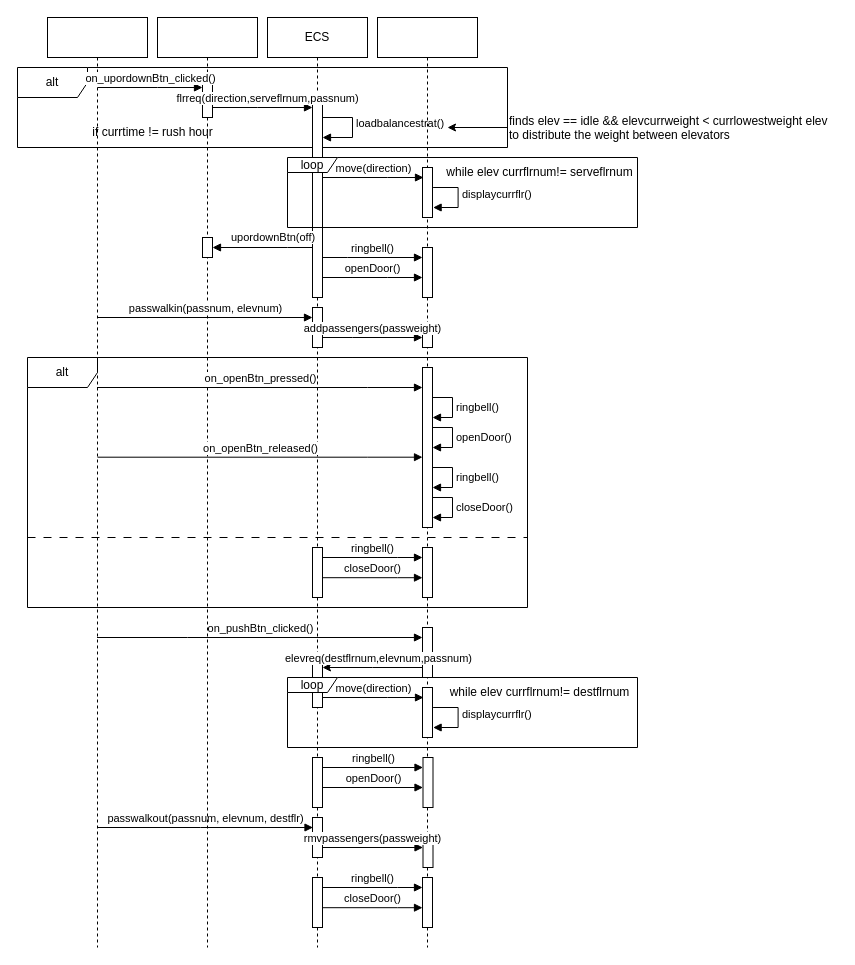
This 855x965 diagram has some shape labels left out. The box of each missing label's shape, as (x1, y1, x2, y2) in pixels:
Elevator: (376, 16, 478, 948)
Floor: (156, 16, 258, 948)
Passenger: (46, 16, 148, 948)
